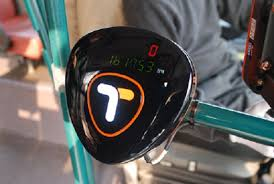terminal: (62, 24, 201, 170)
